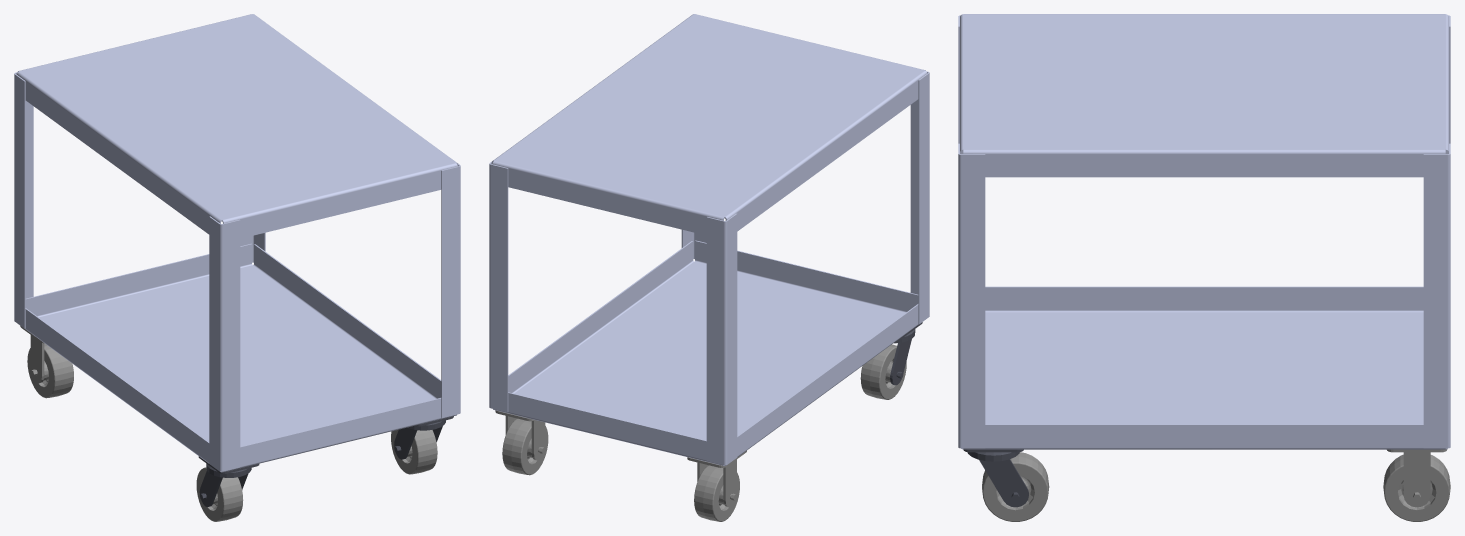
The picture shows the model from 3 angles, left to right: view 1: azimuth 30°, elevation 25°; view 2: azimuth 150°, elevation 25°; view 3: azimuth 270°, elevation 25°; orthographic projection. The views are drawn at different scales.
Visible parts, largest first — view 1: node2, node0, node4, node1, node5, node8, node16, node12, node18, node14, node6; view 2: node2, node0, node5, node3, node4, node11, node8, node16, node6, node9, node18; view 3: node2, node0, node1, node3, node11, node12, node14, node9.
Boxes of the visible parts, x1,y1,x2,y2 form: node2: (16, 14, 458, 238); node0: (25, 243, 456, 472); node4: (209, 216, 240, 471); node1: (441, 163, 460, 417); node5: (14, 72, 33, 328); node8: (27, 343, 73, 398); node16: (196, 467, 243, 521); node12: (391, 429, 437, 474); node18: (199, 463, 251, 507); node14: (394, 420, 445, 459); node6: (20, 326, 44, 383); node2: (491, 14, 927, 235); node0: (493, 240, 918, 465); node5: (706, 213, 737, 465); node3: (489, 161, 508, 412); node4: (910, 71, 929, 324); node11: (502, 418, 548, 475); node8: (694, 465, 739, 521); node16: (860, 344, 906, 399); node6: (687, 450, 746, 507); node9: (495, 410, 545, 460); node18: (890, 329, 915, 385); node2: (960, 14, 1448, 177); node0: (961, 286, 1447, 449); node1: (958, 143, 985, 448); node3: (1423, 143, 1450, 448); node11: (1383, 454, 1450, 521); node12: (982, 452, 1049, 521); node14: (967, 452, 1028, 507); node9: (1387, 449, 1447, 507).
Bounding box in the file's own units: 0.6223 × 0.9271 × 0.7871.
